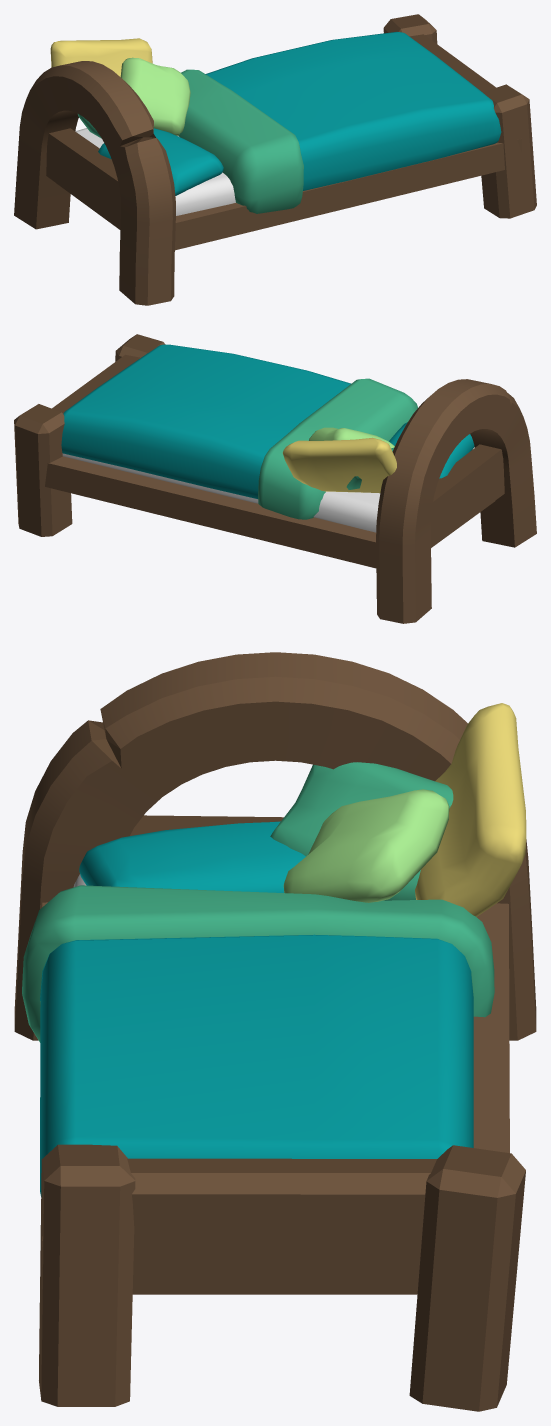
The model's file is bed.fbx.
The picture shows the model from 3 angles, top to bottom: view 1: azimuth 30°, elevation 25°; view 2: azimuth 150°, elevation 25°; view 3: azimuth 270°, elevation 25°; orthographic projection. The views are drawn at different scales.
Parts seen in each view (by area): view 1: pCube6, pCube8, pCube11, pCube9, pCube12, pCube7; view 2: pCube6, pCube8, pCube12, pCube7, pCube11, pCube9; view 3: pCube6, pCube8, pCube12, pCube11, pCube9, pCube10.
Boxes of the visible parts, left/top/right/bottom form: pCube6: left=14, top=14, right=536, bottom=305; pCube8: left=178, top=31, right=501, bottom=213; pCube11: left=120, top=57, right=190, bottom=135; pCube9: left=98, top=128, right=223, bottom=195; pCube12: left=50, top=38, right=152, bottom=76; pCube7: left=75, top=128, right=235, bottom=215; pCube6: left=14, top=334, right=536, bottom=623; pCube8: left=61, top=344, right=417, bottom=519; pCube12: left=282, top=437, right=396, bottom=493; pCube7: left=62, top=447, right=474, bottom=532; pCube11: left=309, top=427, right=394, bottom=448; pCube9: left=389, top=422, right=474, bottom=478; pCube6: left=14, top=652, right=536, bottom=1411; pCube8: left=22, top=885, right=494, bottom=1196; pCube12: left=415, top=703, right=526, bottom=916; pCube11: left=283, top=789, right=449, bottom=902; pCube9: left=79, top=821, right=305, bottom=892; pCube10: left=270, top=762, right=453, bottom=900.
Size of the model in its own units: 69.22 by 30.79 by 38.38.
